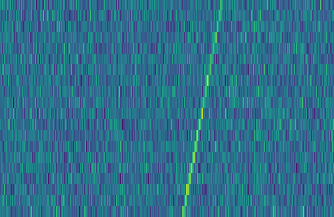signal: (178, 0, 228, 217)
